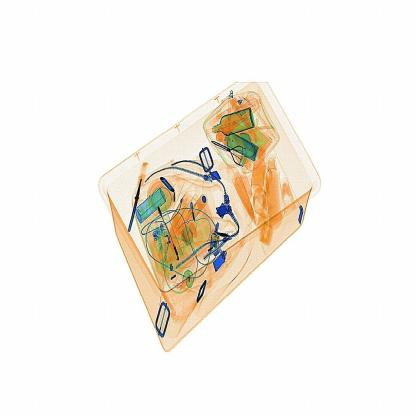gun: (125, 157, 144, 241)
